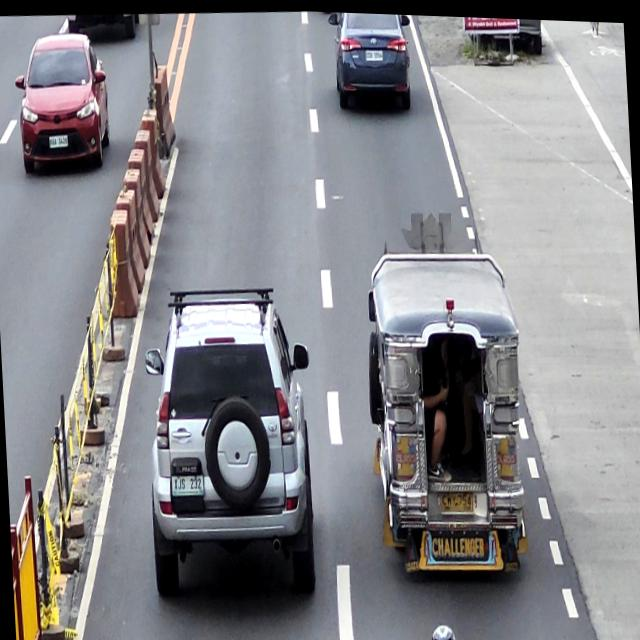Car: (138, 281, 322, 604), (327, 10, 416, 111)
Jeep: (360, 238, 532, 585)
License-Plate: (170, 472, 204, 496), (441, 487, 474, 510), (364, 47, 384, 60)
